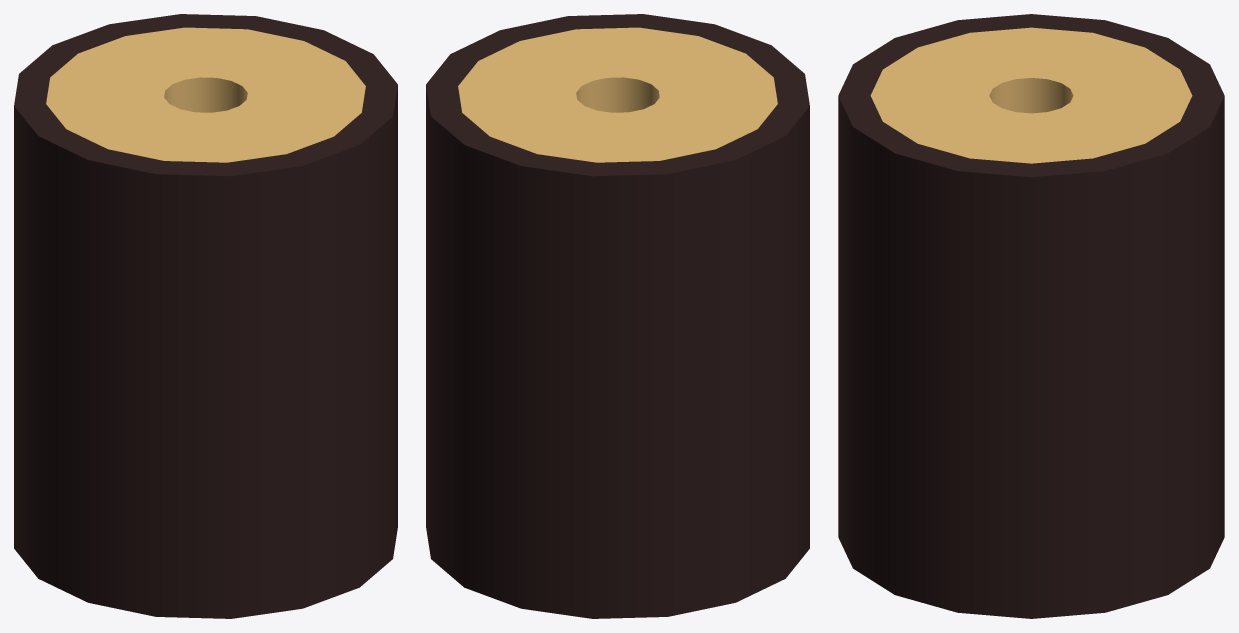
The model's file is WoodDown.fbx.
3 views of the same model, side by side, from view 1: azimuth 30°, elevation 25°; view 2: azimuth 150°, elevation 25°; view 3: azimuth 270°, elevation 25° (orthographic).
Parts seen in each view (by area): view 1: wood1; view 2: wood1; view 3: wood1.
Part boxes in pixels (left/top/right/bottom): wood1: left=14, top=14, right=397, bottom=618; wood1: left=426, top=14, right=809, bottom=618; wood1: left=838, top=14, right=1224, bottom=618.
Bounding box in the file's own units: 8.11 × 10.23 × 8.11.
